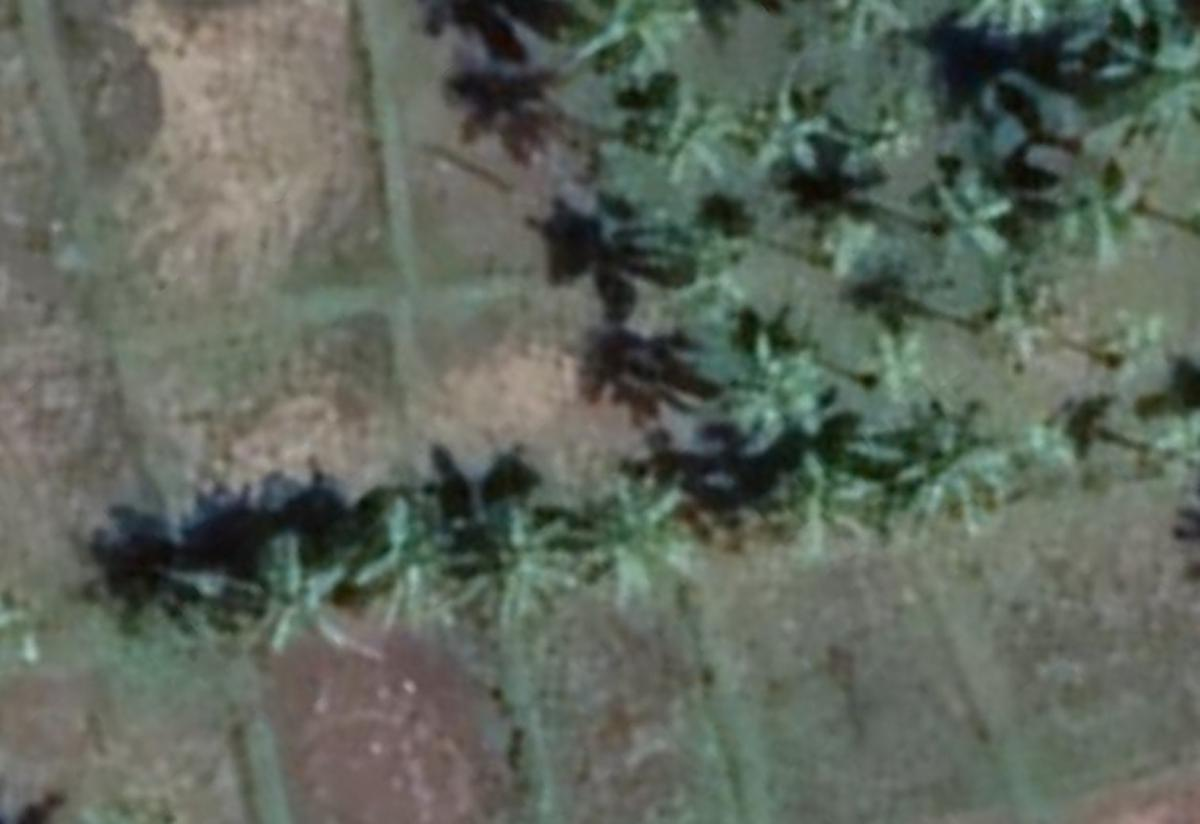coconut: (890, 399, 1024, 543), (718, 321, 848, 448), (575, 470, 702, 597), (355, 489, 462, 630), (916, 163, 1038, 270), (245, 524, 347, 651), (472, 502, 578, 622), (635, 72, 735, 183), (1049, 177, 1152, 282), (781, 454, 892, 551), (567, 1, 702, 76), (654, 215, 757, 312), (745, 85, 832, 182), (985, 269, 1071, 366), (860, 323, 946, 410)
